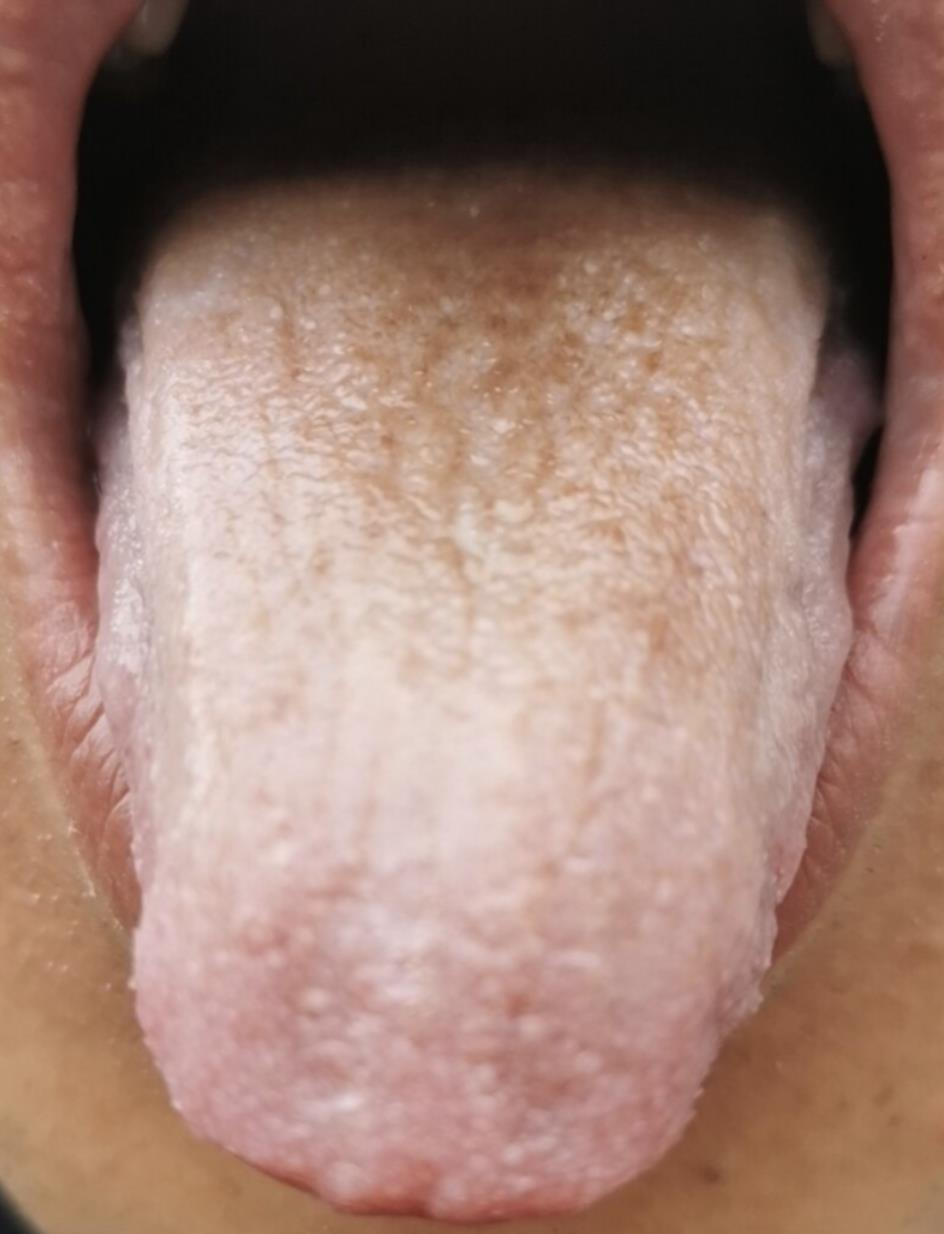baitaishe: (88, 163, 856, 1223)
heitaishe: (88, 163, 856, 1223)
